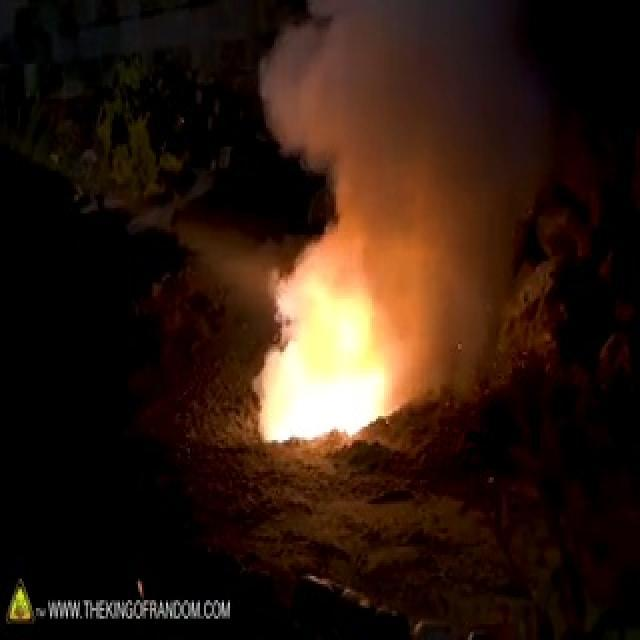Fire: (246, 238, 410, 446)
